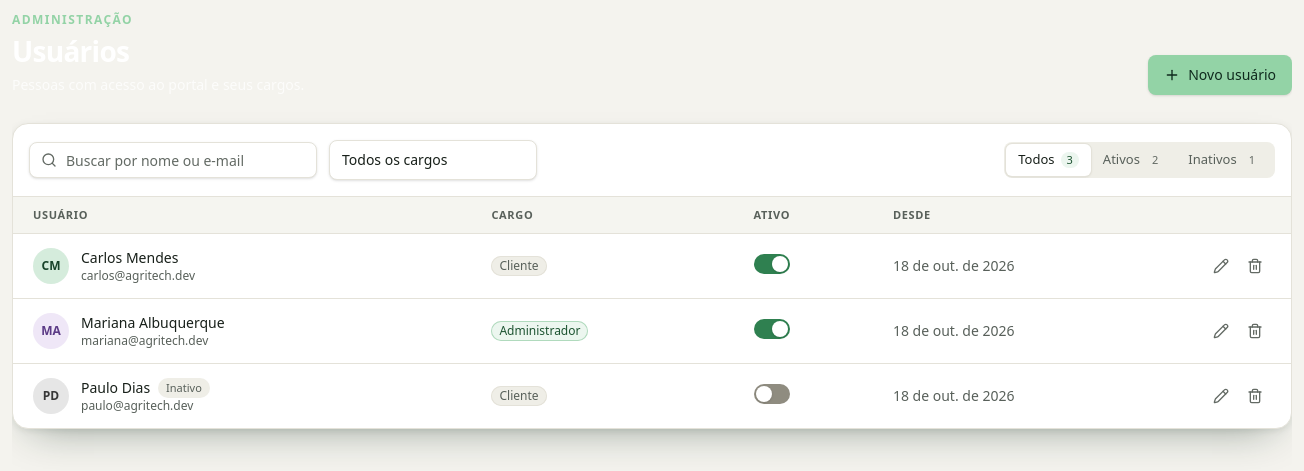
Scenario: UsersPage › filtra por cargo, status e busca
Expected: the text "Carlos Mendes" is shown, [81, 248, 195, 268]
Click the radio button labelled "Inativos 1" at (1225, 160), box [1176, 144, 1273, 176]
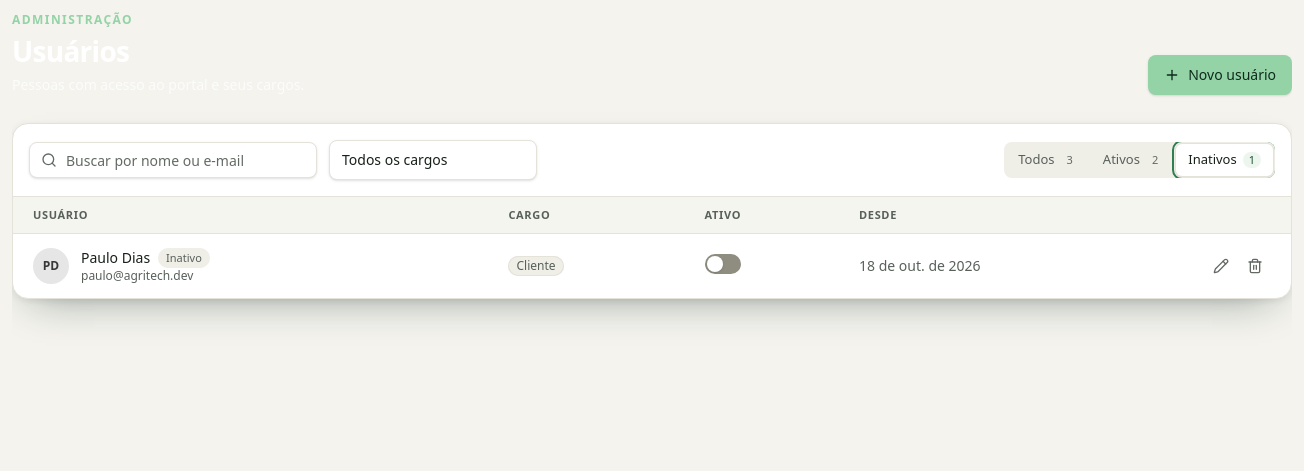
Expected: the number of rows is 2, [13, 197, 1291, 233]; [13, 233, 1291, 298]
Click the radio button labelled "Ativos 2" at (1134, 160), box [1091, 144, 1176, 176]
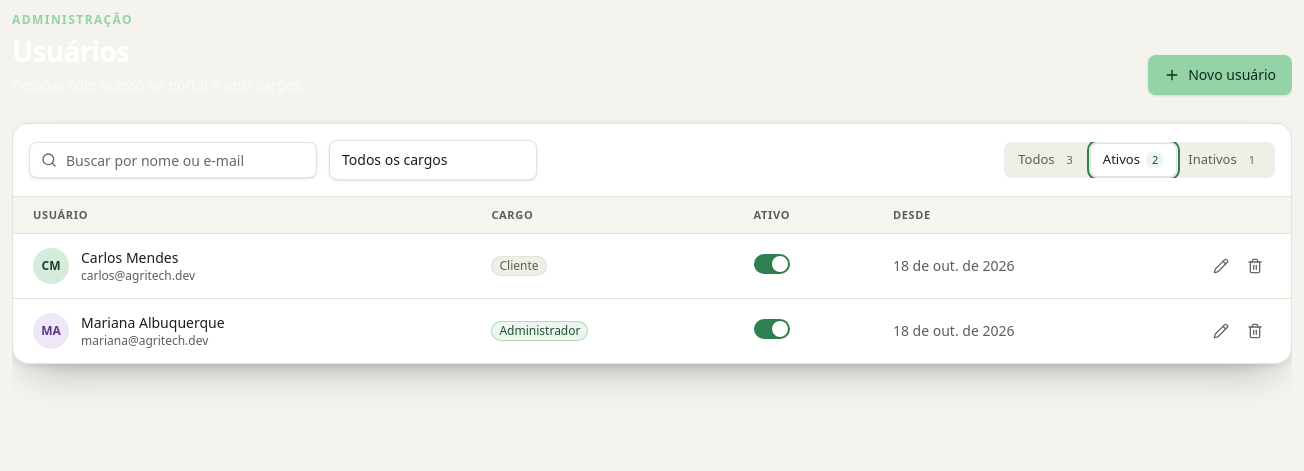
Now the text "Paulo Dias" is gone
Click the radio button labelled "Todos 3" at (1049, 160), box [1006, 144, 1091, 176]
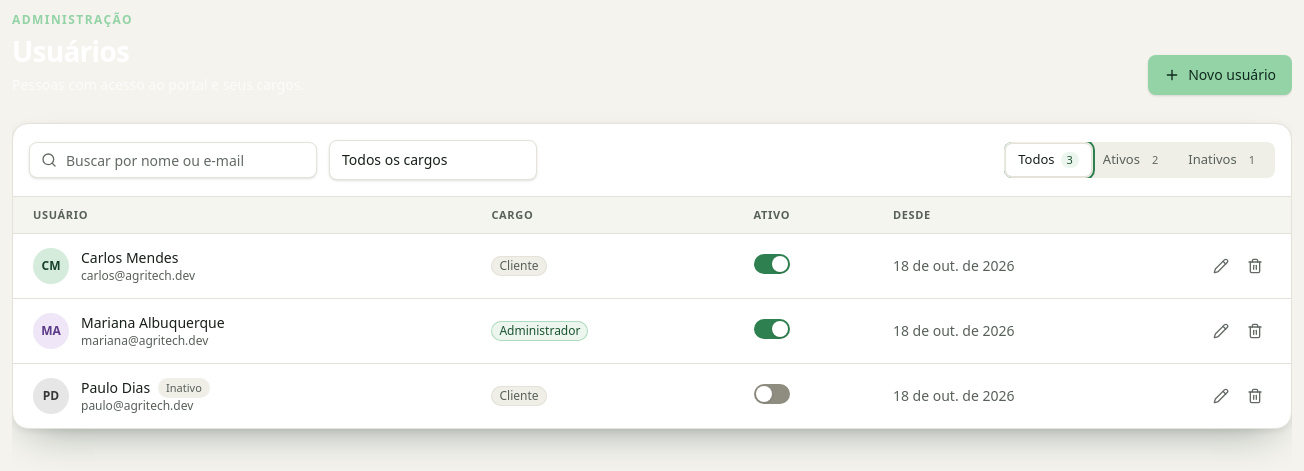
Select "Administrador" in the dropdown named "Filtrar por cargo" at (433, 160), box [329, 140, 537, 180]
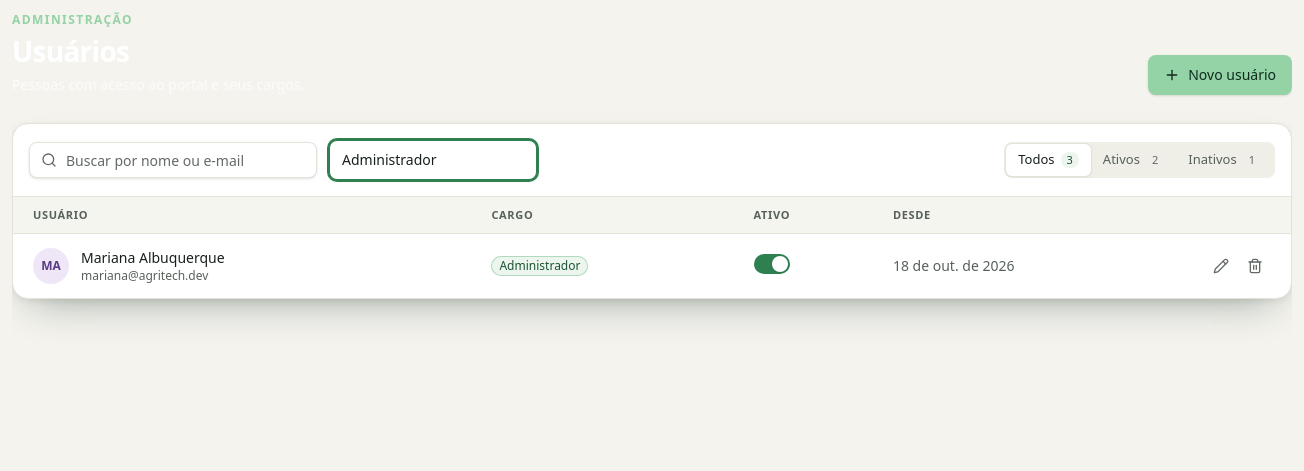
Expected: the number of rows is 2, [13, 197, 1291, 233]; [13, 233, 1291, 298]
Select "Todos os cargos" in the dropdown named "Filtrar por cargo" at (433, 160), box [329, 140, 537, 180]
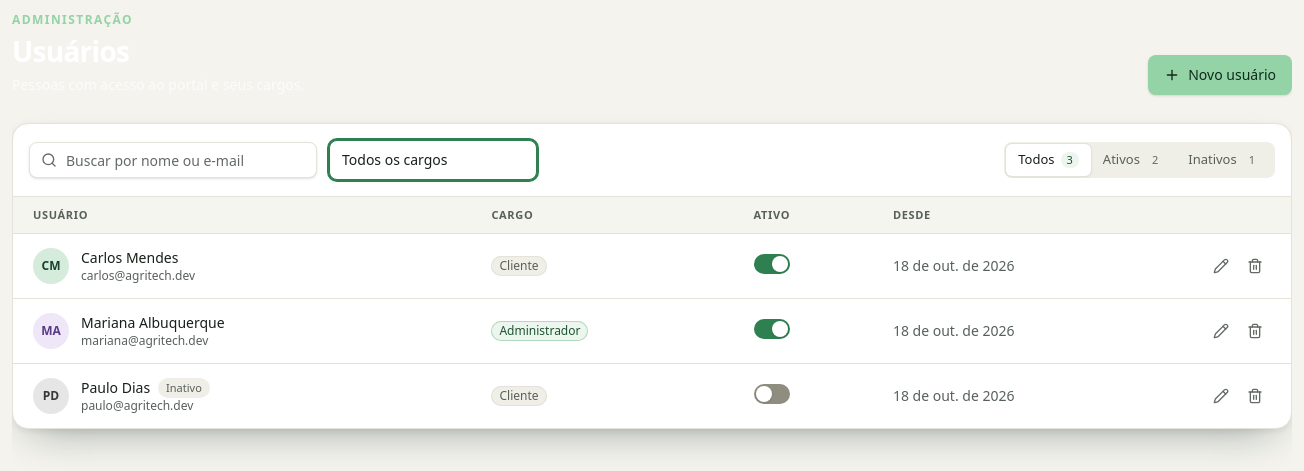
Type "carlos@" into the search field named "Buscar usuário" at (173, 160), box [29, 142, 317, 178]
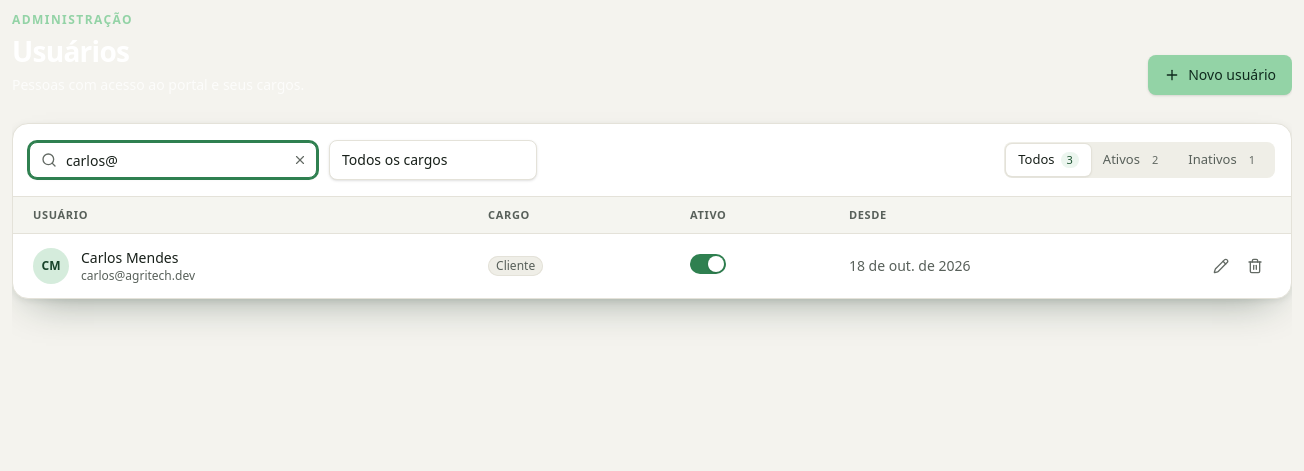
Now the text "Carlos Mendes" is shown, box [81, 248, 195, 268]
Now the text "Mariana Albuquerque" is gone
